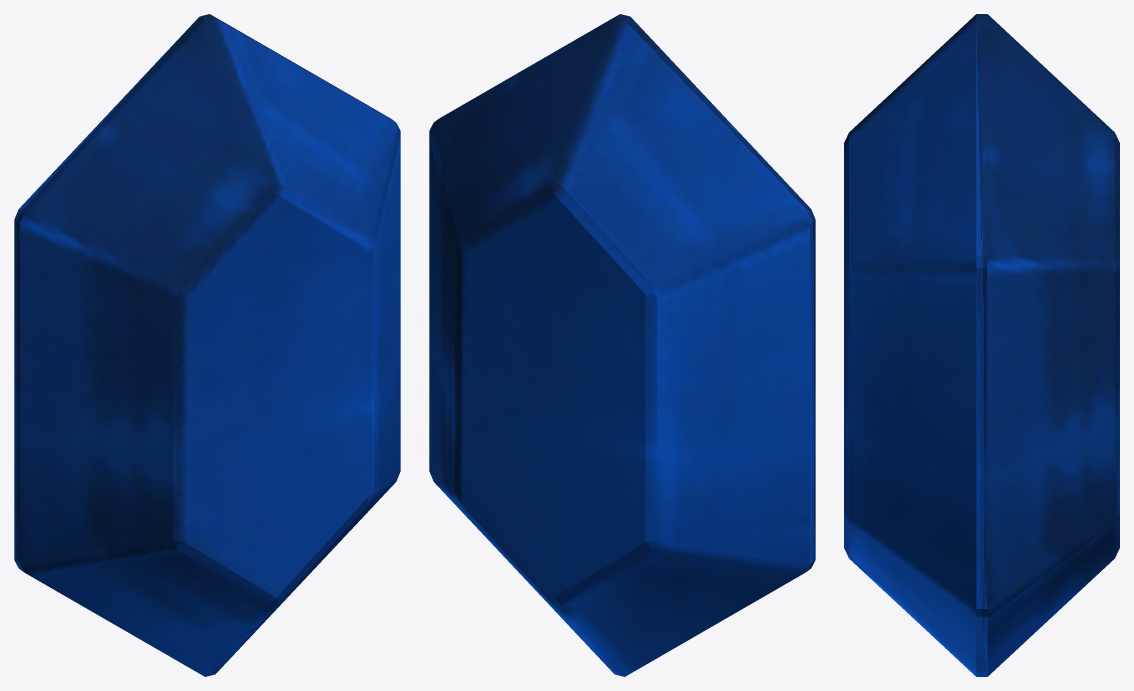
File: Rupee.obj
The picture shows the model from 3 angles, left to right: view 1: azimuth 30°, elevation 25°; view 2: azimuth 150°, elevation 25°; view 3: azimuth 270°, elevation 25°; orthographic projection.
Visible parts, largest first — view 1: submesh_0; view 2: submesh_0; view 3: submesh_0.
Part boxes in pixels (x1,y1,x2,y2): submesh_0: (14,14,400,676); submesh_0: (429,14,815,676); submesh_0: (844,14,1119,676).
Size of the model in its own units: 0.2946 by 0.4851 by 0.1842.
Materials: 1 (1 with a texture image).
